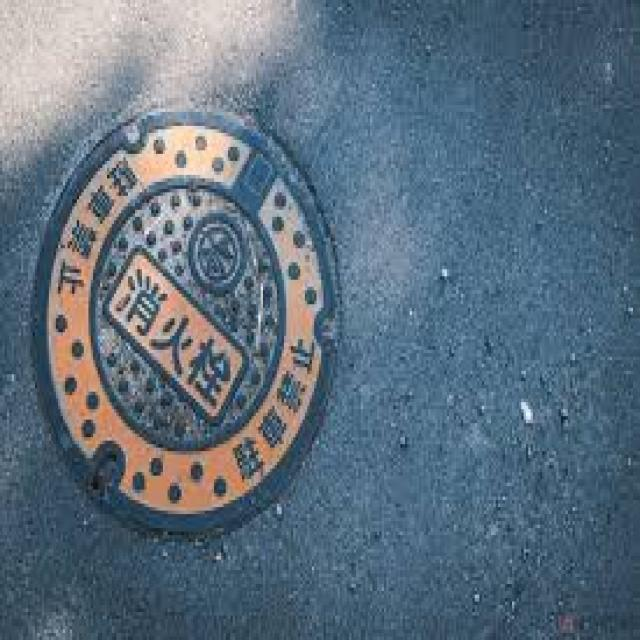manhole: (32, 106, 339, 537)
